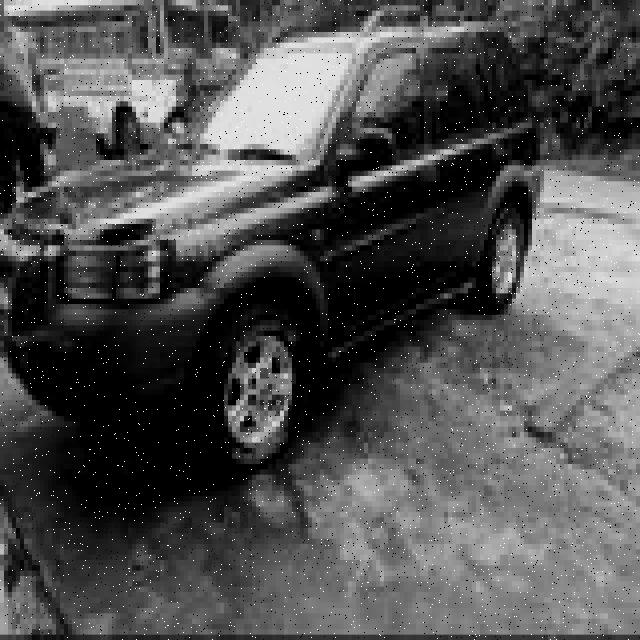car: (2, 0, 541, 465)
